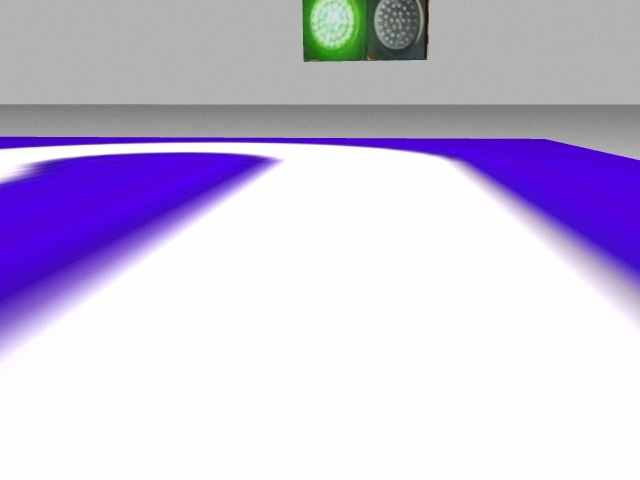green: (303, 1, 371, 62)
